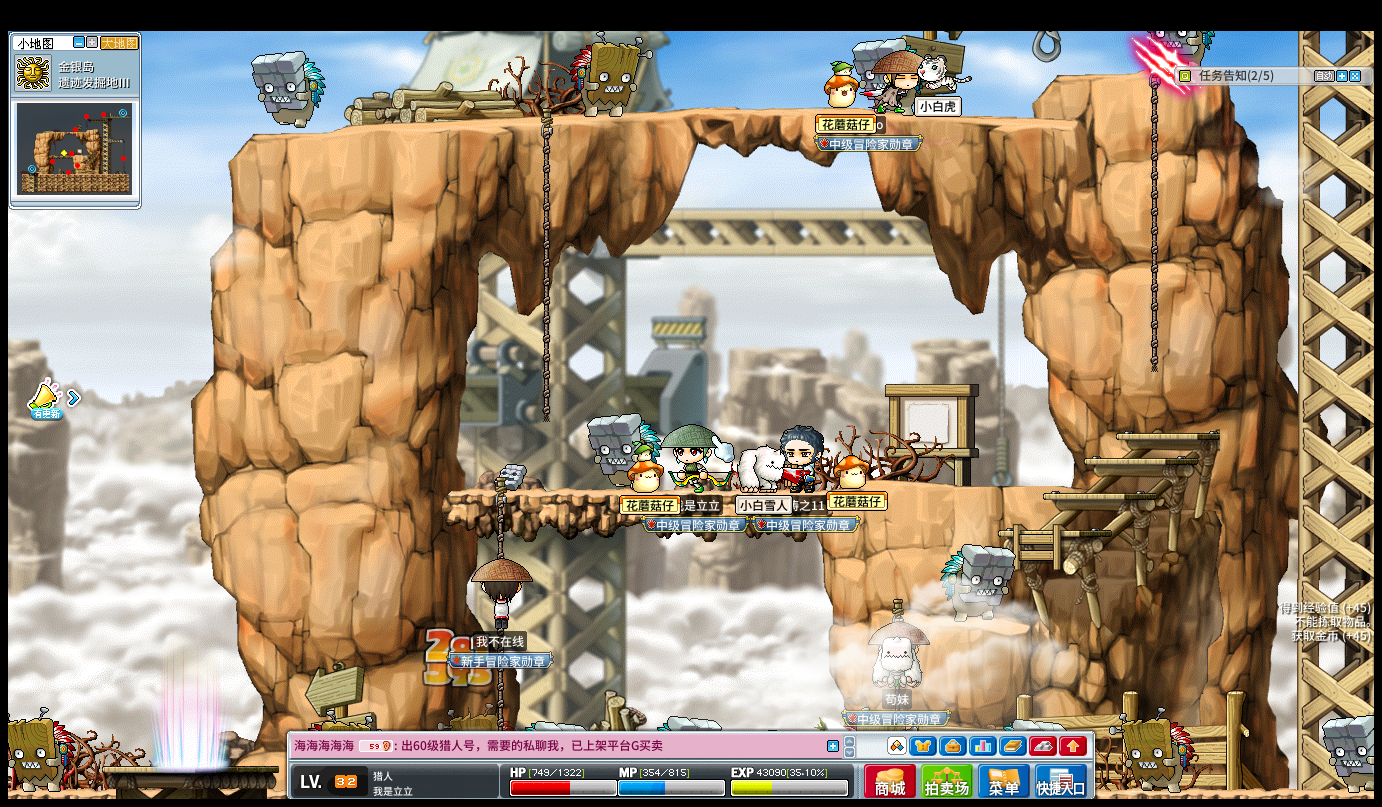floor: (258, 104, 1087, 139), (445, 487, 824, 499), (911, 615, 1033, 636), (884, 482, 1075, 492), (1053, 68, 1154, 82), (1114, 429, 1221, 441), (1077, 456, 1194, 464), (1041, 492, 1154, 500), (998, 528, 1108, 536)
monster: (570, 31, 648, 114), (1116, 711, 1194, 791), (249, 50, 325, 132), (3, 711, 76, 792), (940, 544, 1014, 621), (585, 412, 652, 489), (1321, 716, 1377, 792)
rope: (1146, 64, 1160, 377), (540, 106, 551, 424), (541, 108, 551, 351), (492, 482, 505, 560)
